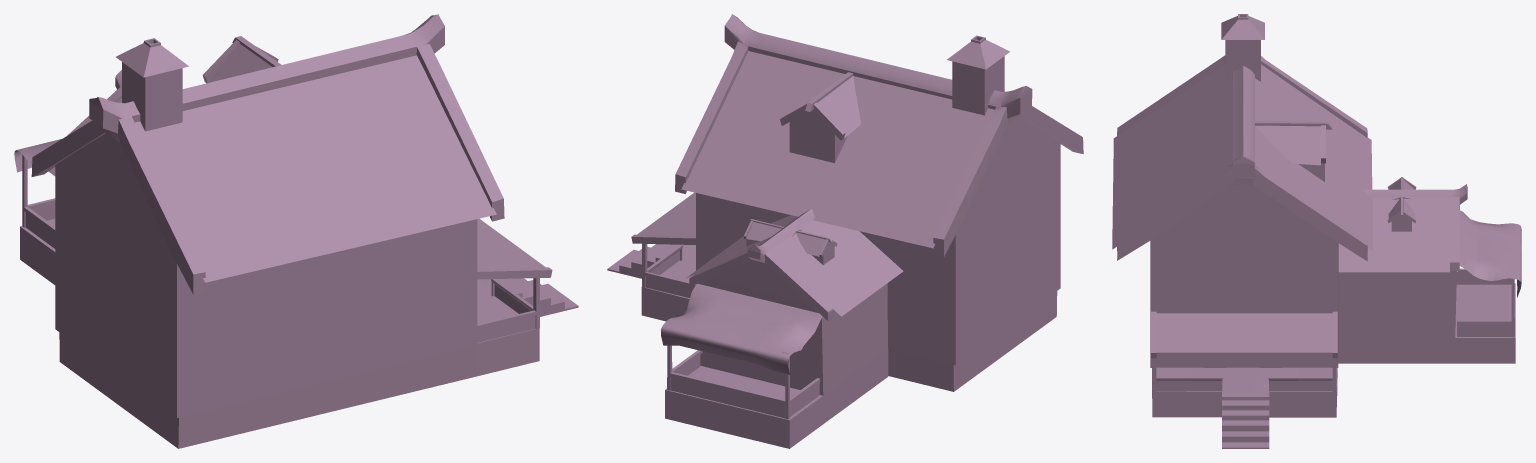
The model's file is vill_hut_lo.fbx.
The picture shows the model from 3 angles, left to right: view 1: azimuth 30°, elevation 25°; view 2: azimuth 150°, elevation 25°; view 3: azimuth 270°, elevation 25°; orthographic projection. The views are drawn at different scales.
Visible parts, largest first — view 1: big_walls, roof_slope, top_wood, fron_porch, chmeny_lo, ss_top, side_porch, stair, small_wall; view 2: roof_slope1, big_walls, top_wood, small_wall, small_roof, shade, side_porch, fron_porch, chmeny_lo, ss_top, ss_wall, stair; view 3: big_walls, top_wood, small_wall, roof_slope, fron_porch, roof_slope1, small_roof, shade, stair, ss_top, chmeny_lo, side_porch.
Boxes of the visible parts, x1,y1,x2,y2 form: big_walls: (55, 133, 477, 417); roof_slope: (135, 55, 496, 282); top_wood: (31, 14, 539, 448); fron_porch: (477, 218, 552, 342); chmeny_lo: (116, 38, 188, 131); ss_top: (202, 36, 281, 83); side_porch: (22, 148, 55, 248); stair: (477, 278, 578, 316); small_wall: (20, 219, 55, 284); roof_slope1: (681, 51, 994, 248); big_walls: (696, 117, 1060, 365); top_wood: (641, 14, 1083, 391); small_wall: (665, 260, 888, 448); small_roof: (686, 208, 903, 320); shade: (661, 283, 822, 374); side_porch: (667, 345, 820, 419); fron_porch: (631, 192, 695, 298); chmeny_lo: (947, 35, 1009, 115); ss_top: (780, 72, 861, 140); ss_wall: (789, 111, 847, 163); stair: (607, 244, 695, 278); big_walls: (1150, 184, 1338, 367); top_wood: (1117, 55, 1367, 417); small_wall: (1338, 271, 1515, 363); roof_slope: (1112, 65, 1232, 249); fron_porch: (1151, 311, 1337, 391); roof_slope1: (1255, 64, 1373, 251); small_roof: (1338, 177, 1467, 272); shade: (1459, 210, 1521, 297); stair: (1222, 392, 1269, 448); ss_top: (1255, 121, 1332, 165); chmeny_lo: (1221, 14, 1264, 82); side_porch: (1456, 225, 1514, 337).
Bounding box in the file's own units: 37.64 × 27.4 × 36.74.
